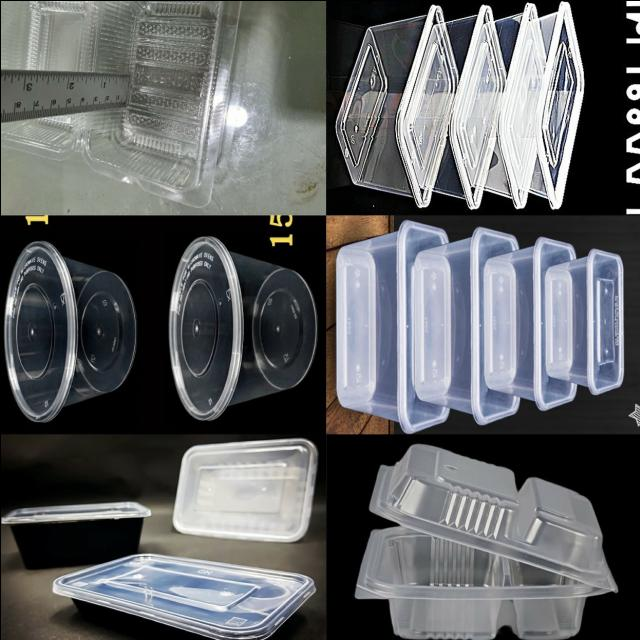plastik: (354, 443, 616, 639), (0, 0, 240, 206), (447, 1, 582, 208), (169, 235, 316, 419), (395, 4, 519, 208), (334, 4, 456, 206), (410, 226, 532, 422), (3, 240, 135, 421), (336, 220, 447, 432), (52, 552, 314, 640), (482, 237, 576, 409), (172, 438, 316, 541), (544, 248, 622, 394), (0, 501, 151, 568)
